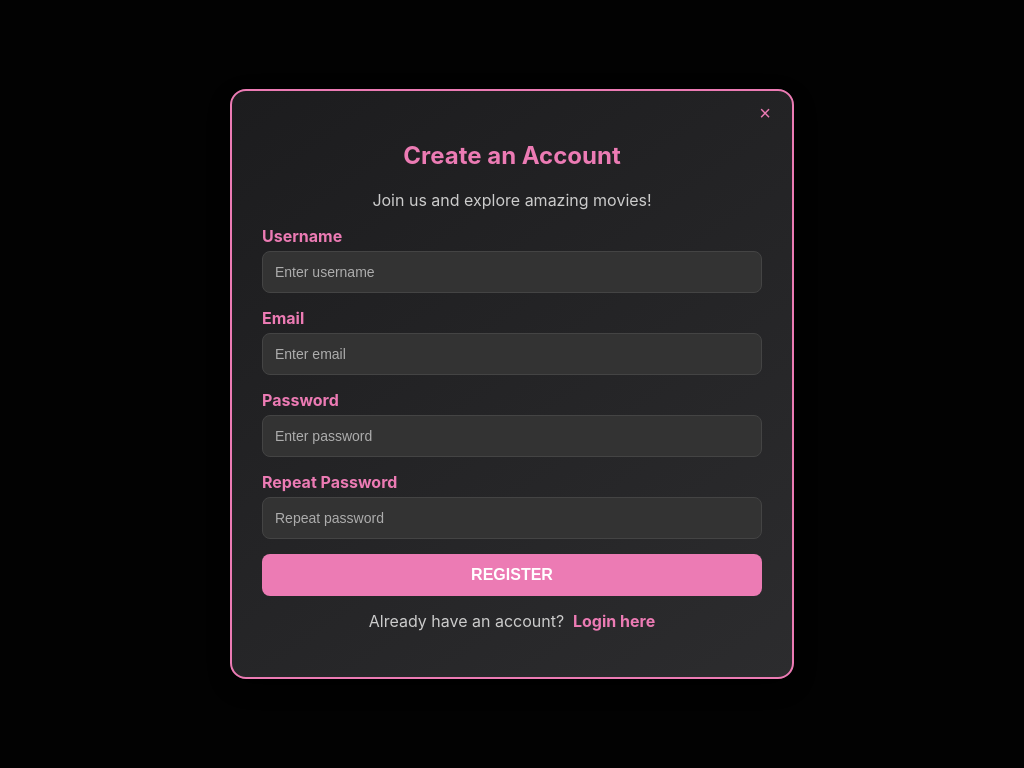
Test case: Register Component › should show error if user already exists during registration
In the field with placeholder "Enter username": (512, 272) [262,251,762,293], type "existingUser"
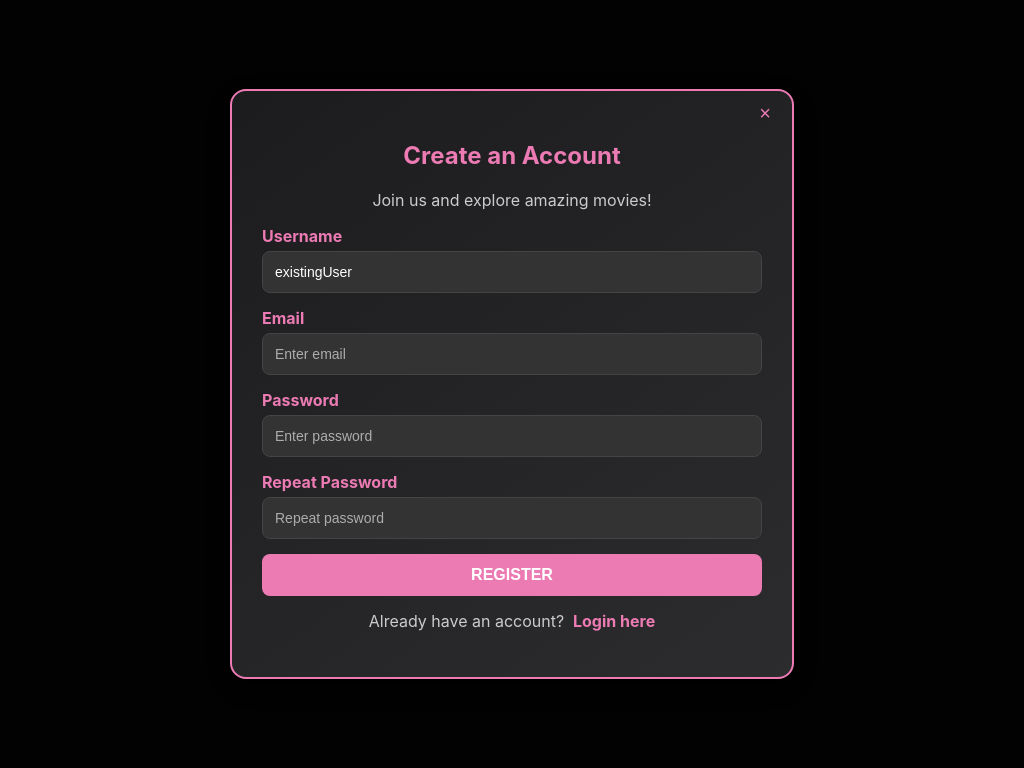
In the password field with placeholder "Enter password": (512, 436) [262,415,762,457], type "password123"
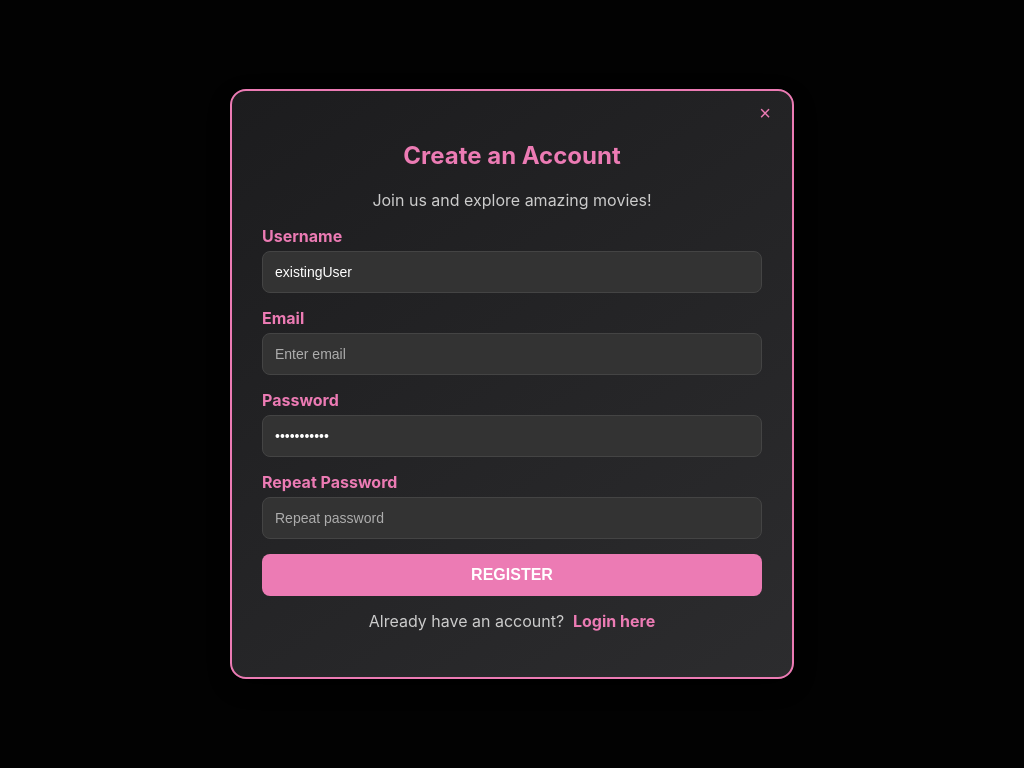
In the password field with placeholder "Repeat password": (512, 518) [262,497,762,539], type "password123"
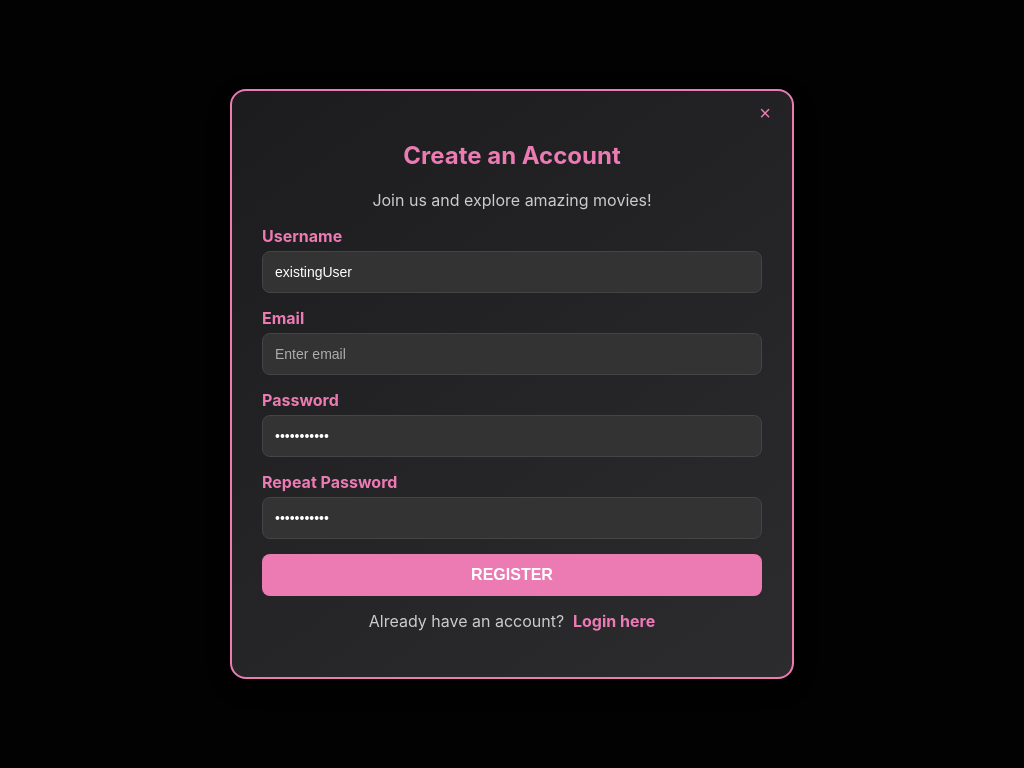
Click the button "Register": (512, 575) [262,554,762,596]
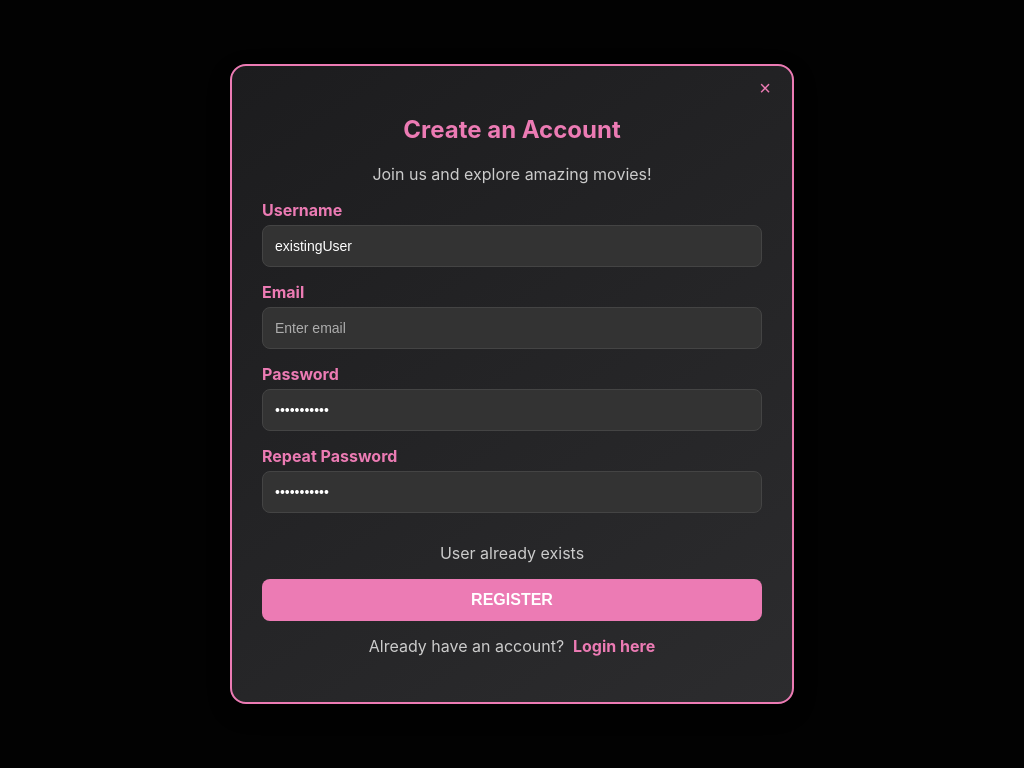
Now the text "User already exists" is shown, box [440,544,584,564]
